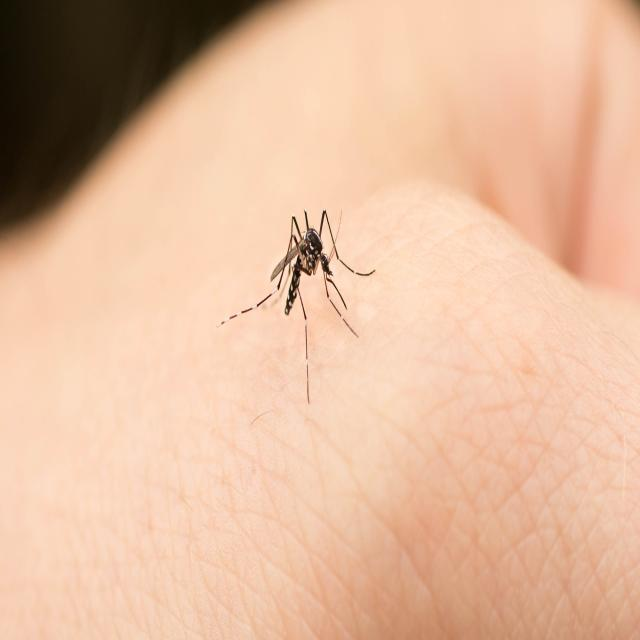sinek: (215, 190, 390, 420)
